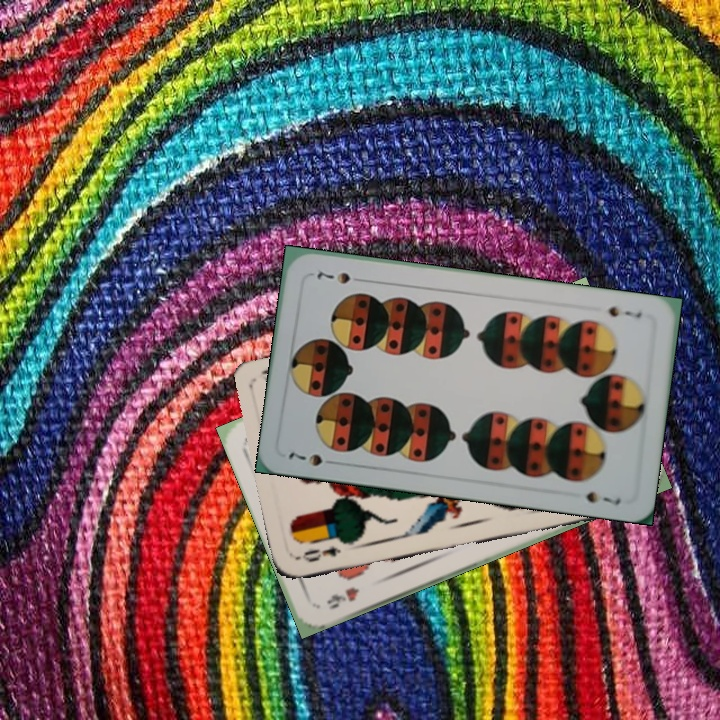EO: (294, 542, 343, 565)
H9: (323, 583, 362, 612)
S7: (284, 448, 325, 469), (604, 302, 644, 321)
